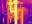Hotspot: (12, 4, 20, 23), (6, 0, 16, 12), (13, 0, 17, 10)
